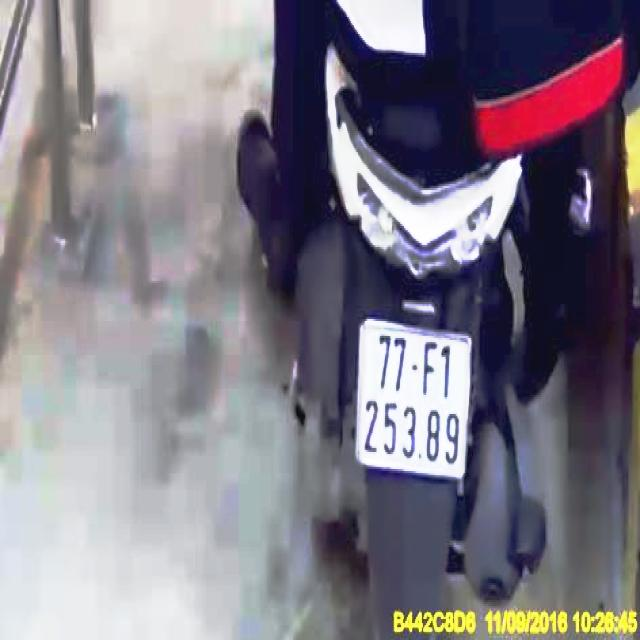license_plate: (355, 322, 471, 484)
